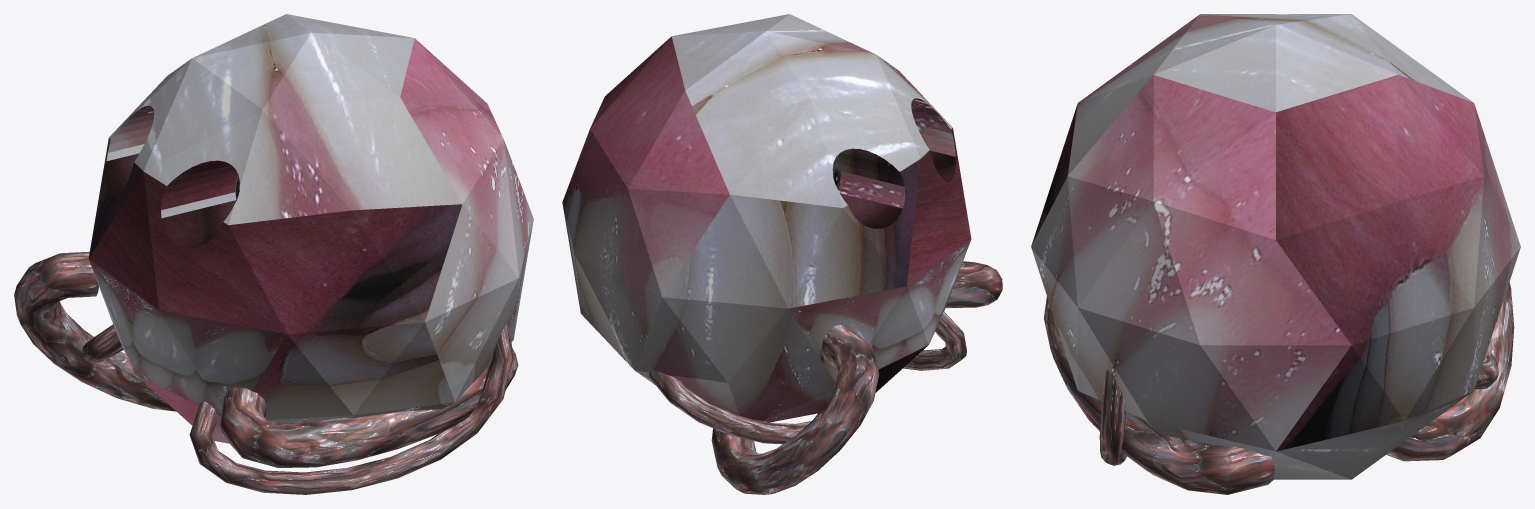
The model's file is toothmonster.glb.
3 views of the same model, side by side, from view 1: azimuth 30°, elevation 25°; view 2: azimuth 150°, elevation 25°; view 3: azimuth 270°, elevation 25° (orthographic). The views are drawn at different scales.
Parts seen in each view (by area): view 1: Icosphere, BézierCurve.002, BézierCurve.003, BézierCurve, BézierCurve.001; view 2: Icosphere, BézierCurve, BézierCurve.001, BézierCurve.002, BézierCurve.003; view 3: Icosphere, BézierCurve.002, BézierCurve, BézierCurve.003, BézierCurve.001.
Part boxes in pixels (bbox=[...]): Icosphere: bbox=[88, 14, 533, 443]; BézierCurve.002: bbox=[220, 348, 518, 467]; BézierCurve.003: bbox=[189, 324, 513, 494]; BézierCurve: bbox=[14, 251, 175, 411]; BézierCurve.001: bbox=[82, 324, 123, 363]; Icosphere: bbox=[562, 14, 971, 422]; BézierCurve: bbox=[711, 325, 879, 494]; BézierCurve.001: bbox=[649, 370, 836, 444]; BézierCurve.002: bbox=[945, 261, 1002, 308]; BézierCurve.003: bbox=[903, 311, 966, 370]; Icosphere: bbox=[1031, 14, 1520, 479]; BézierCurve.002: bbox=[1043, 296, 1274, 494]; BézierCurve: bbox=[1386, 282, 1514, 461]; BézierCurve.003: bbox=[1099, 370, 1126, 465]; BézierCurve.001: bbox=[1475, 349, 1498, 389].
Size of the model in its own units: 1.99 by 2.05 by 2.
Materials: 3 (3 with a texture image).
